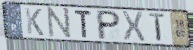K: (24, 7, 45, 38)
N: (47, 6, 73, 41)
P: (97, 9, 122, 41)
T: (73, 9, 94, 39), (148, 12, 167, 44)
X: (120, 10, 148, 42)
